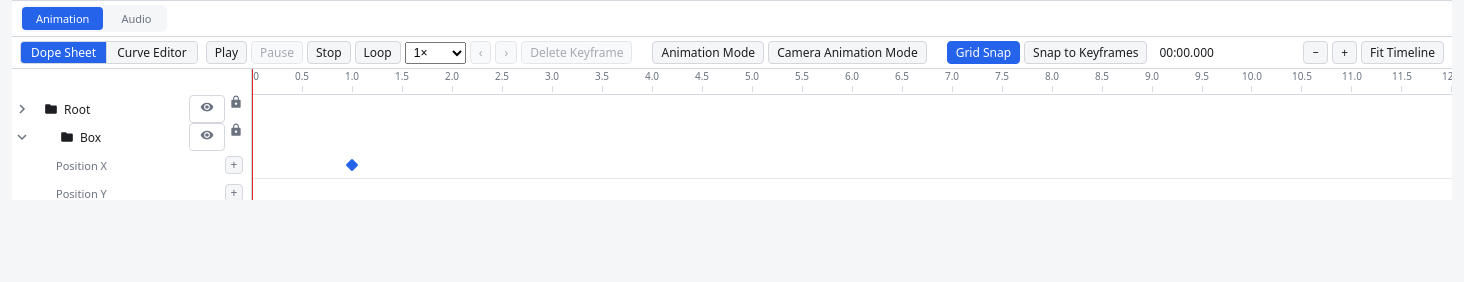
ClipExtraction UI › shows Add to clip in context menu alongside Delete
The width and height of the screenshot is (1464, 282).
Note: Select keyframe via click
Press the mouse on the button with test id "keyframe-marker" at (352,164), box [346, 158, 358, 171]
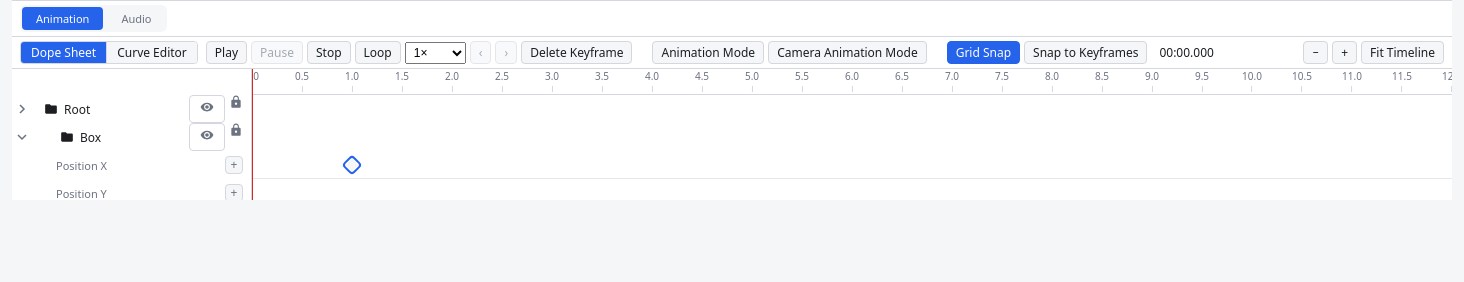
Note: Right-click to open context menu
Right-click the button with test id "keyframe-marker" at (352,164), box [346, 158, 358, 171]
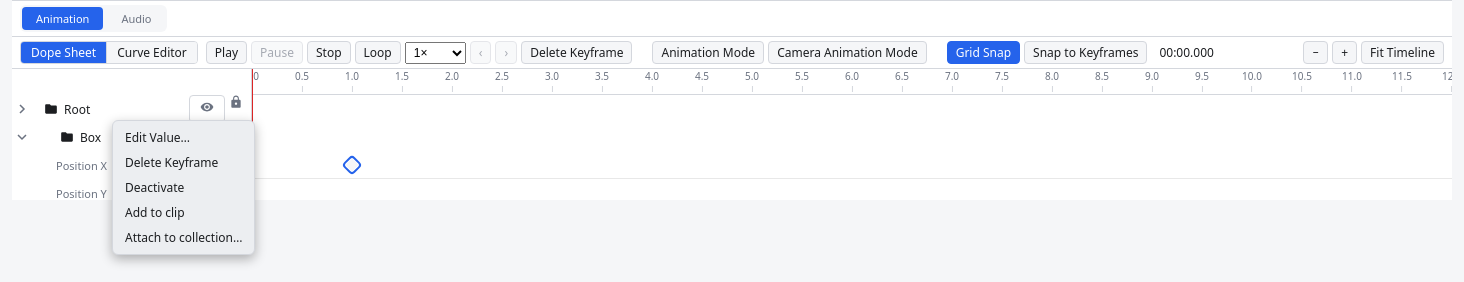
expect the element with test id "timeline-context-menu" is shown: met, box [112, 120, 255, 255]
expect the button with test id "add-to-clip-button" is shown: met, box [117, 200, 250, 225]
